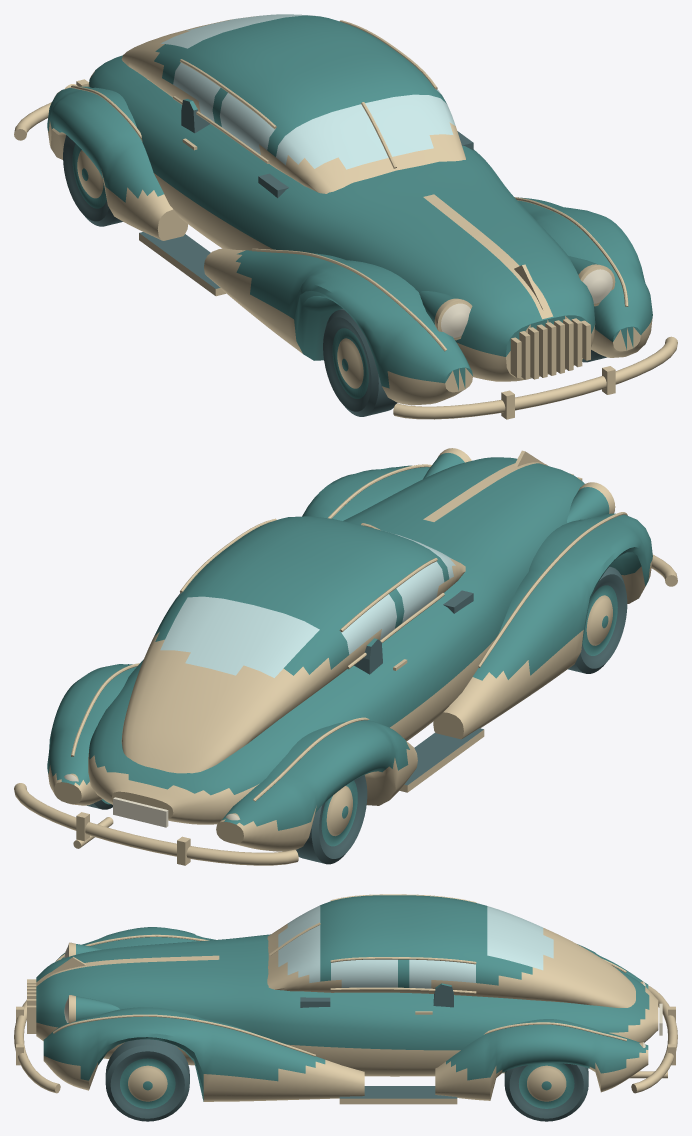
Rendered from KC32__AD_Ext_Car_Coupe_Cream.glb.
3 renders of one model, top to bottom at view 1: azimuth 30°, elevation 25°; view 2: azimuth 150°, elevation 25°; view 3: azimuth 270°, elevation 25°, orthographic. The views are drawn at different scales.
Visible parts, largest first — view 1: KC32_CORPS__AD_Ext_Car_Coupe_Cream, KC32_BRONZE__AD_Ext_Car_Coupe_Cream, KC32_VITRAGE__AD_Ext_Car_Coupe_Cream, KC32_LUMIERE__AD_Ext_Car_Coupe_Cream; view 2: KC32_CORPS__AD_Ext_Car_Coupe_Cream, KC32_BRONZE__AD_Ext_Car_Coupe_Cream, KC32_VITRAGE__AD_Ext_Car_Coupe_Cream, KC32_LUMIERE__AD_Ext_Car_Coupe_Cream; view 3: KC32_CORPS__AD_Ext_Car_Coupe_Cream, KC32_BRONZE__AD_Ext_Car_Coupe_Cream, KC32_VITRAGE__AD_Ext_Car_Coupe_Cream.
Part boxes in pixels (<box>): KC32_CORPS__AD_Ext_Car_Coupe_Cream: <box>47,15,652,416</box>; KC32_BRONZE__AD_Ext_Car_Coupe_Cream: <box>14,16,677,419</box>; KC32_VITRAGE__AD_Ext_Car_Coupe_Cream: <box>160,14,455,169</box>; KC32_LUMIERE__AD_Ext_Car_Coupe_Cream: <box>441,269,612,337</box>; KC32_CORPS__AD_Ext_Car_Coupe_Cream: <box>47,453,652,864</box>; KC32_BRONZE__AD_Ext_Car_Coupe_Cream: <box>14,448,677,865</box>; KC32_VITRAGE__AD_Ext_Car_Coupe_Cream: <box>160,534,455,677</box>; KC32_LUMIERE__AD_Ext_Car_Coupe_Cream: <box>64,774,239,827</box>; KC32_CORPS__AD_Ext_Car_Coupe_Cream: <box>36,895,649,1121</box>; KC32_BRONZE__AD_Ext_Car_Coupe_Cream: <box>14,894,677,1104</box>; KC32_VITRAGE__AD_Ext_Car_Coupe_Cream: <box>278,905,553,988</box>.
Size of the model in its own units: 2.12 by 1.43 by 5.36.
